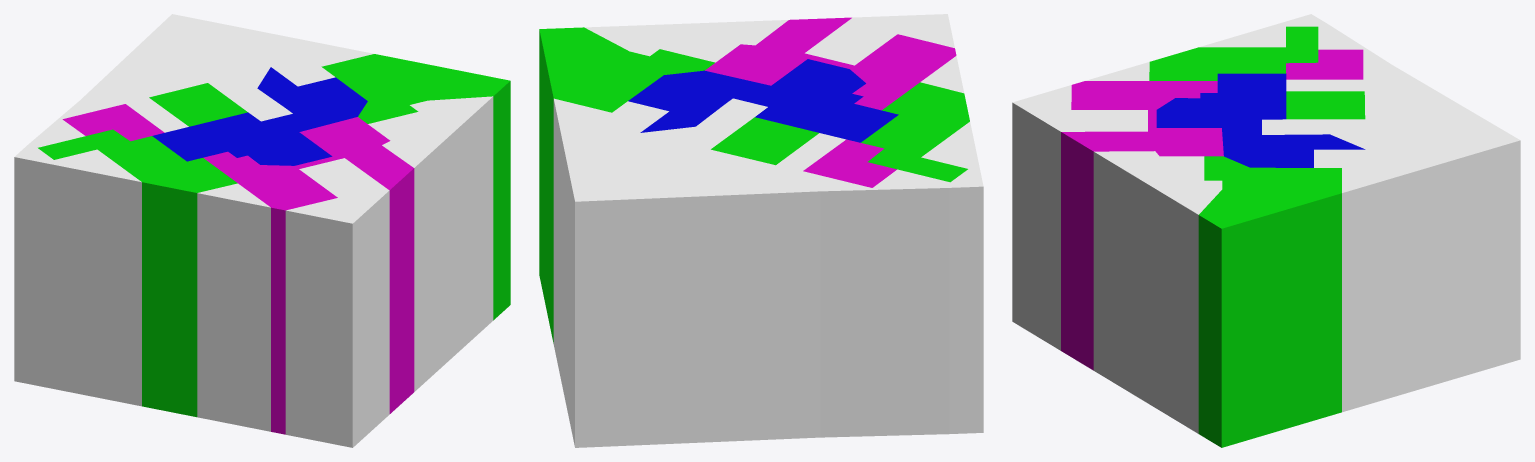
The model's file is Oswiecim_BasePlate_02.fbx.
3 renders of one model, left to right at view 1: azimuth 30°, elevation 25°; view 2: azimuth 150°, elevation 25°; view 3: azimuth 270°, elevation 25°, orthographic. The views are drawn at different scales.
Parts seen in each view (by area): view 1: mesh_basePlate_00, mesh_basePlate_02, mesh_basePlate_03, mesh_basePlate_01; view 2: mesh_basePlate_00, mesh_basePlate_02, mesh_basePlate_03, mesh_basePlate_01; view 3: mesh_basePlate_00, mesh_basePlate_02, mesh_basePlate_03, mesh_basePlate_01.
Part boxes in pixels (x1=…): mesh_basePlate_00: x1=14, y1=14, x2=493, y2=447; mesh_basePlate_02: x1=38, y1=54, x2=510, y2=417; mesh_basePlate_03: x1=62, y1=104, x2=414, y2=434; mesh_basePlate_01: x1=152, y1=67, x2=367, y2=165; mesh_basePlate_00: x1=553, y1=14, x2=983, y2=447; mesh_basePlate_02: x1=539, y1=27, x2=969, y2=343; mesh_basePlate_03: x1=705, y1=17, x2=956, y2=187; mesh_basePlate_01: x1=628, y1=59, x2=898, y2=142; mesh_basePlate_00: x1=1012, y1=14, x2=1520, y2=433; mesh_basePlate_02: x1=1149, y1=26, x2=1365, y2=447; mesh_basePlate_03: x1=1061, y1=49, x2=1363, y2=370; mesh_basePlate_01: x1=1156, y1=73, x2=1365, y2=167.
Bounding box in the file's own units: 10530 × 5009 × 10530.
